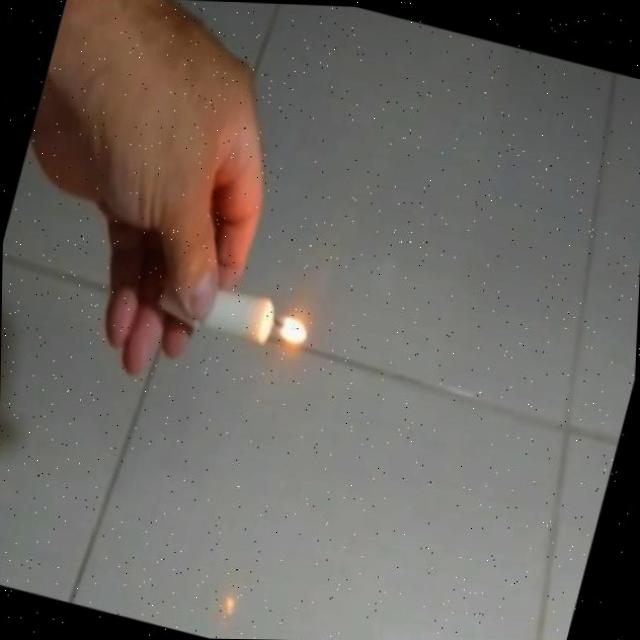fire: (266, 301, 317, 352)
